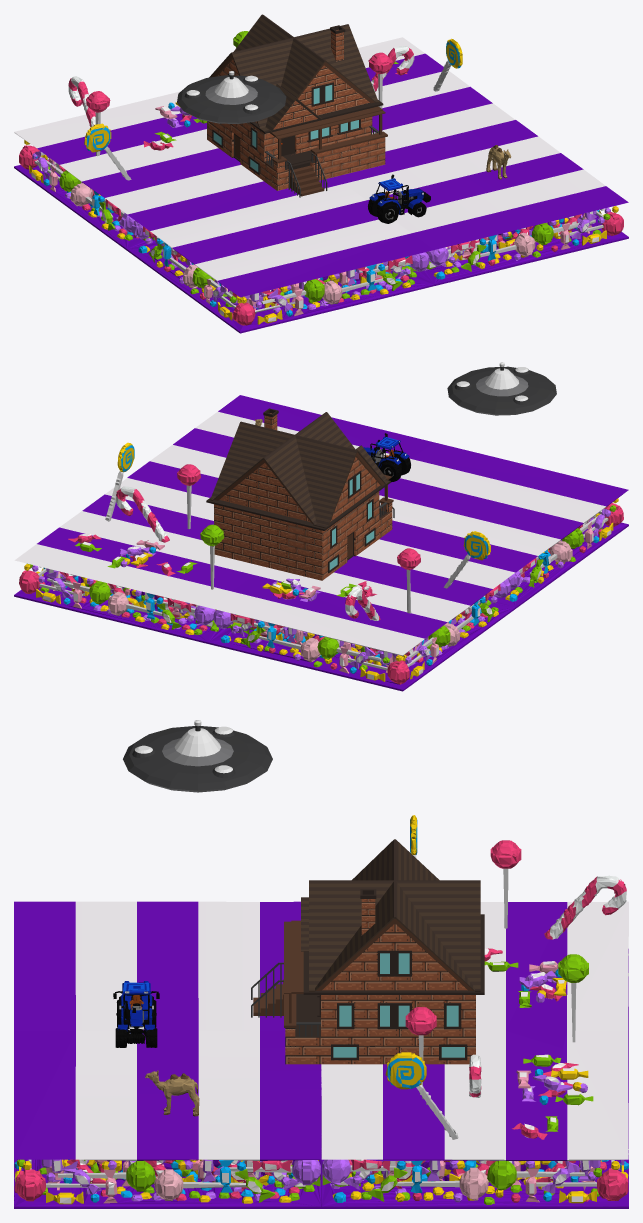
The picture shows the model from 3 angles, top to bottom: view 1: azimuth 30°, elevation 25°; view 2: azimuth 150°, elevation 25°; view 3: azimuth 270°, elevation 25°; orthographic projection. The views are drawn at different scales.
Visible parts, largest first — view 1: TERRAIN_CANDY, Cube.469, OBJRANDOM_UFO, VEHICLES_TRACTOR, ANIMAL_CAMELLO; view 2: TERRAIN_CANDY, Cube.469, OBJRANDOM_UFO, VEHICLES_TRACTOR; view 3: TERRAIN_CANDY, Cube.469, OBJRANDOM_UFO, VEHICLES_TRACTOR, ANIMAL_CAMELLO.
Boxes of the visible parts, box(x1,y1,x2,y2) form: TERRAIN_CANDY: box(14, 31, 628, 333); Cube.469: box(207, 14, 387, 197); OBJRANDOM_UFO: box(177, 71, 286, 123); VEHICLES_TRACTOR: box(368, 174, 430, 223); ANIMAL_CAMELLO: box(486, 145, 511, 179); TERRAIN_CANDY: box(14, 395, 628, 691); Cube.469: box(206, 408, 394, 580); OBJRANDOM_UFO: box(447, 362, 556, 415); VEHICLES_TRACTOR: box(363, 433, 410, 482); TERRAIN_CANDY: box(14, 815, 628, 1208); Cube.469: box(251, 839, 484, 1064); OBJRANDOM_UFO: box(123, 720, 272, 792); VEHICLES_TRACTOR: box(113, 981, 159, 1047); ANIMAL_CAMELLO: box(145, 1070, 199, 1116).
Bounding box in the file's own units: 4059 × 2014 × 4000.
Materials: 29 (3 with a texture image).
